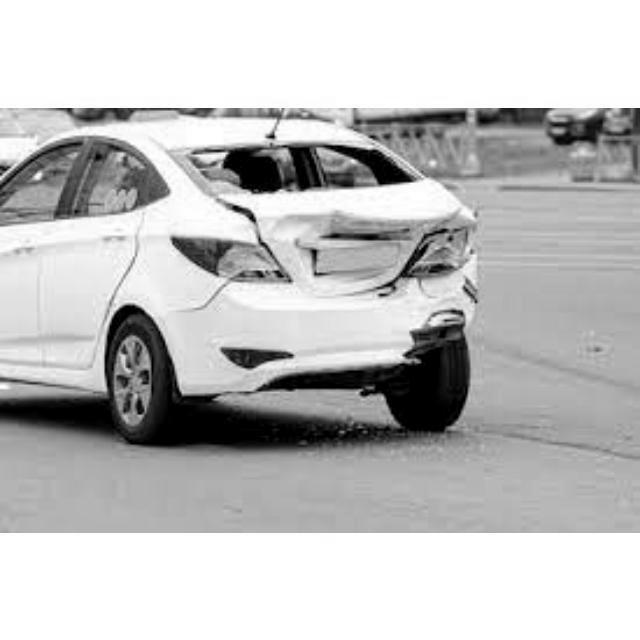Rear-windscreen-Damage: (208, 133, 410, 195)
Taillight-Damage: (198, 239, 298, 294), (394, 222, 478, 277)
boot-dent: (256, 192, 452, 286)
rear-bumper-dent: (288, 316, 478, 390)
